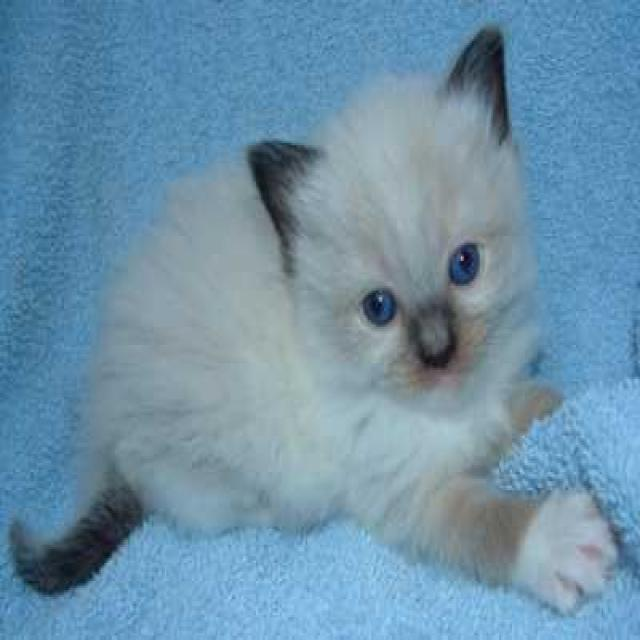Ragdoll: (244, 21, 541, 429)
